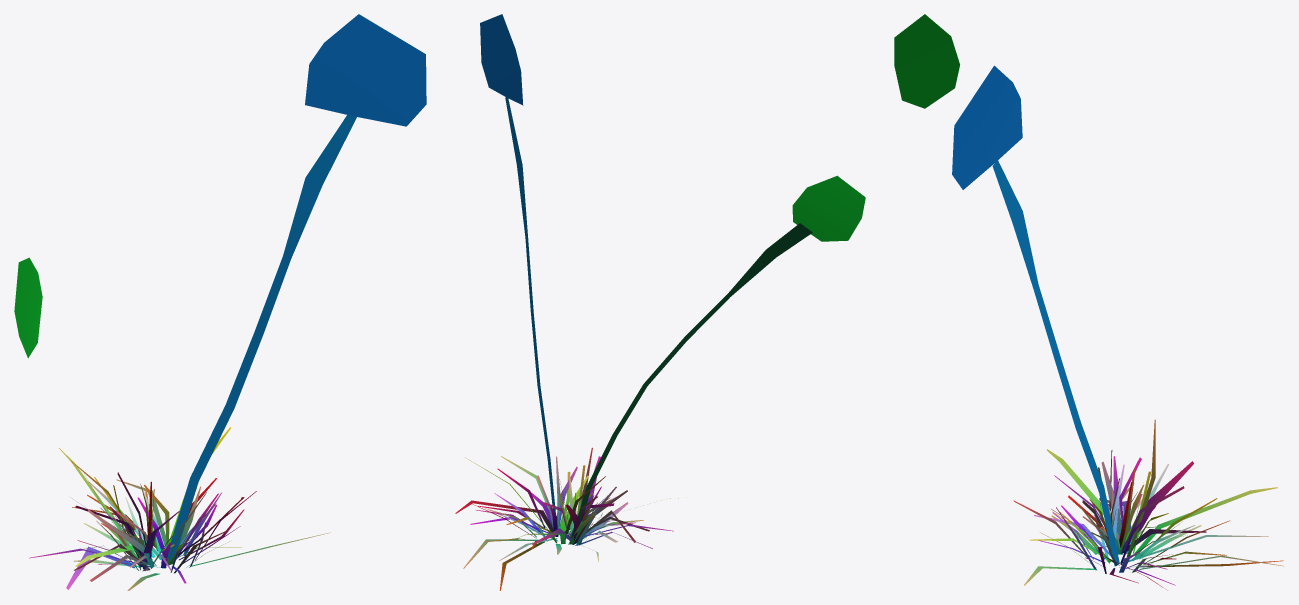
File: Sea_Thrift_vkbgaihha_High_vkbgaihha_VarH_LOD2.fbx
3 views of the same model, side by side, from view 1: azimuth 30°, elevation 25°; view 2: azimuth 150°, elevation 25°; view 3: azimuth 270°, elevation 25° (orthographic). The views are drawn at different scales.
Visible parts, largest first — view 1: _1yzc_VarH_LOD3; view 2: _1yzc_VarH_LOD3; view 3: _1yzc_VarH_LOD3.
Boxes of the visible parts, x1,y1,x2,y2 form: _1yzc_VarH_LOD3: (14, 14, 426, 590); _1yzc_VarH_LOD3: (455, 14, 865, 590); _1yzc_VarH_LOD3: (894, 14, 1283, 590).
Bounding box in the file's own units: 11.3 × 13.85 × 8.64.
